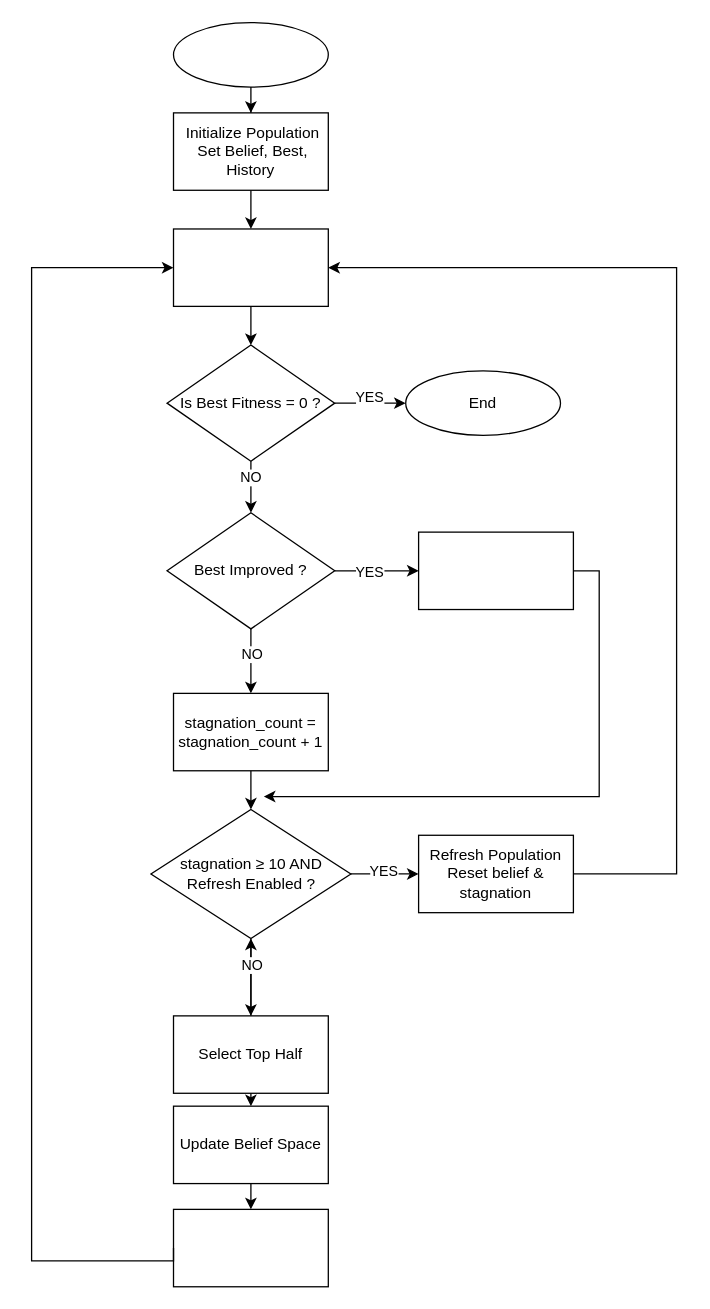
Image size: 710x1309. Some labels were removed from this diagram. Each missing label, with the box of its shape:
Generate New Population: (172, 1208, 328, 1287)
Reset stagnation_count: (417, 531, 573, 610)
Sort Population by Fitness Save Best Fitness to Log: (172, 228, 328, 306)
Start: (172, 21, 328, 87)
